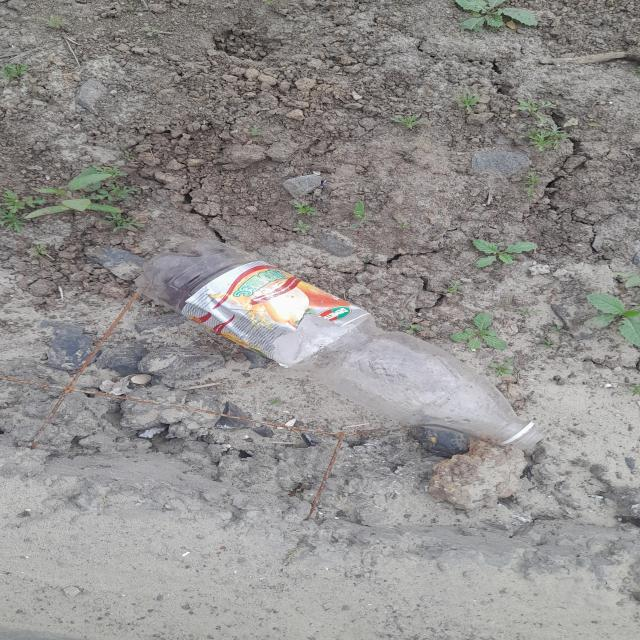empty: (137, 241, 542, 447)
